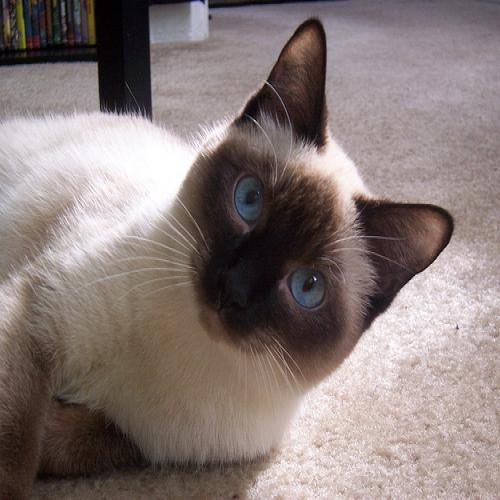siamese: (172, 1, 463, 414)
